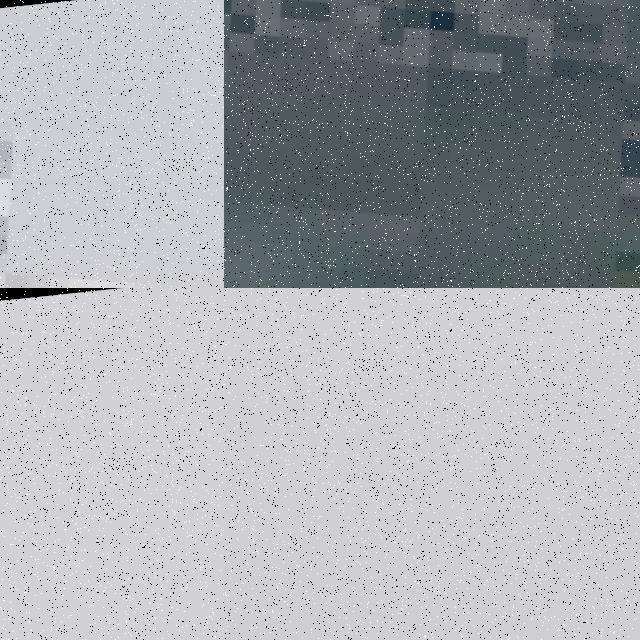0: (0, 0, 224, 288)
drone: (224, 0, 640, 288)
